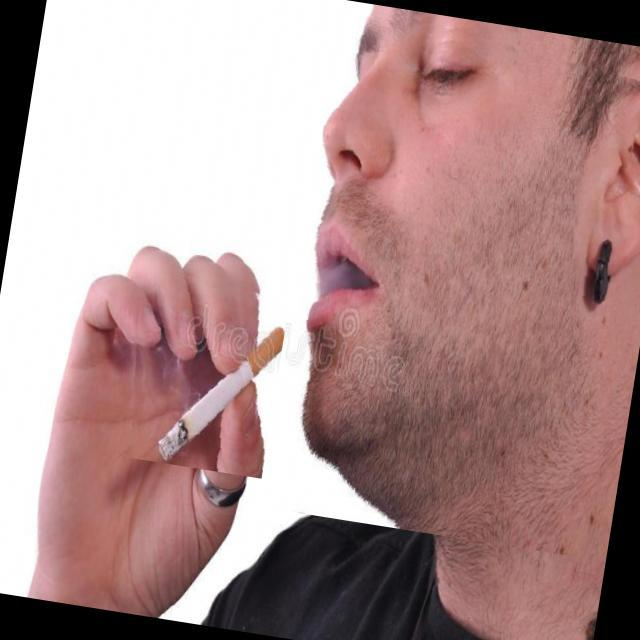cigarette: (111, 264, 292, 478)
